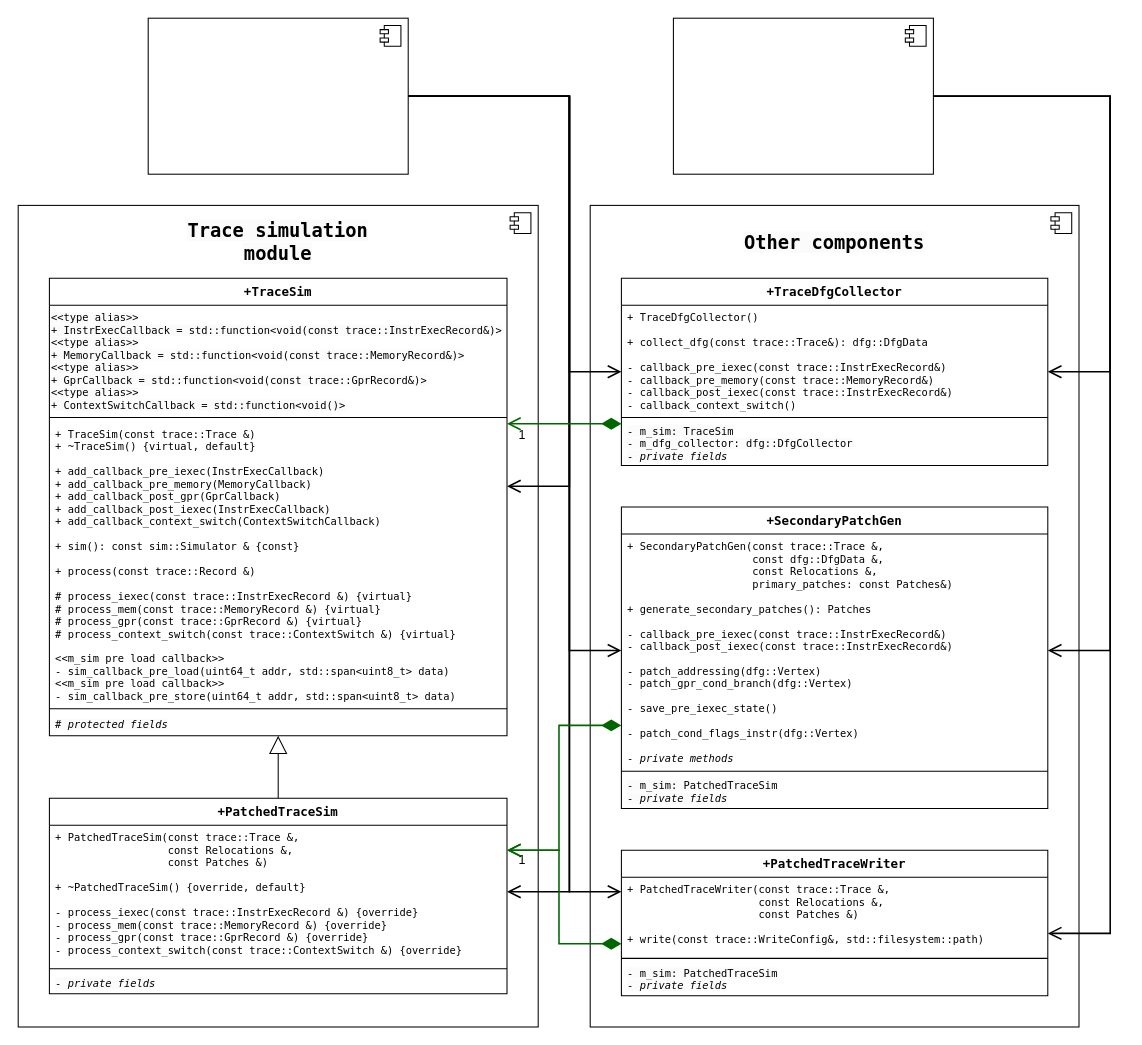
The diagram is 1142 pixels wide and 1045 high, and some of its shapes have lost their labels. The shapes that lost their labels are listed below. From the top down, each one's centre as x and y in pixels, then its label:
[277,95]: Trace library <<namespace>> trace
[802,95]: Dfg Module <<namespace>> dfg
